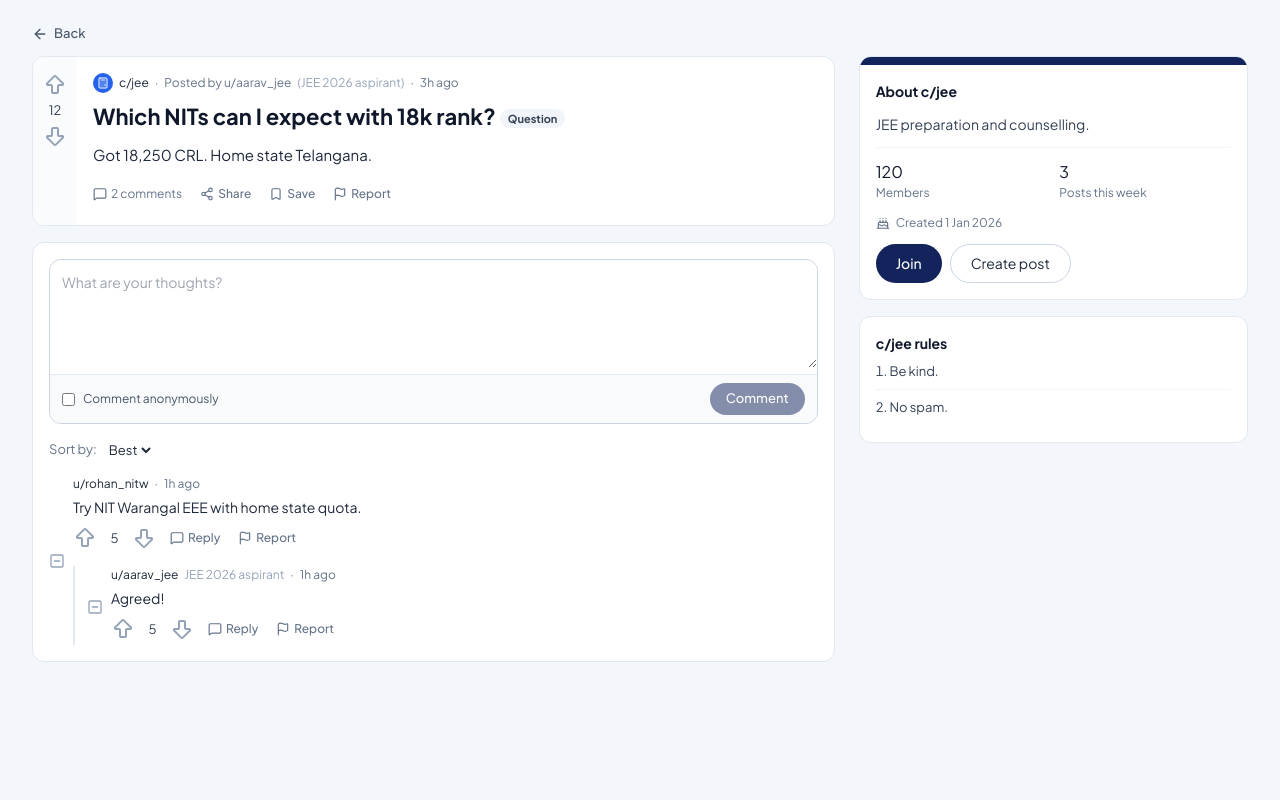
Scenario: Post page › shows the post and its comment thread, and posts a reply
Expected: the heading "Which NITs can I expect with 18k rank? Question" is shown, x1=93 y1=102 x2=565 y2=130
Expected: the text "Try NIT Warangal EEE with home state quota." is shown, x1=73 y1=498 x2=362 y2=516
Click the 1st button "Reply".
click(195, 538)  # box x1=162 y1=523 x2=228 y2=553
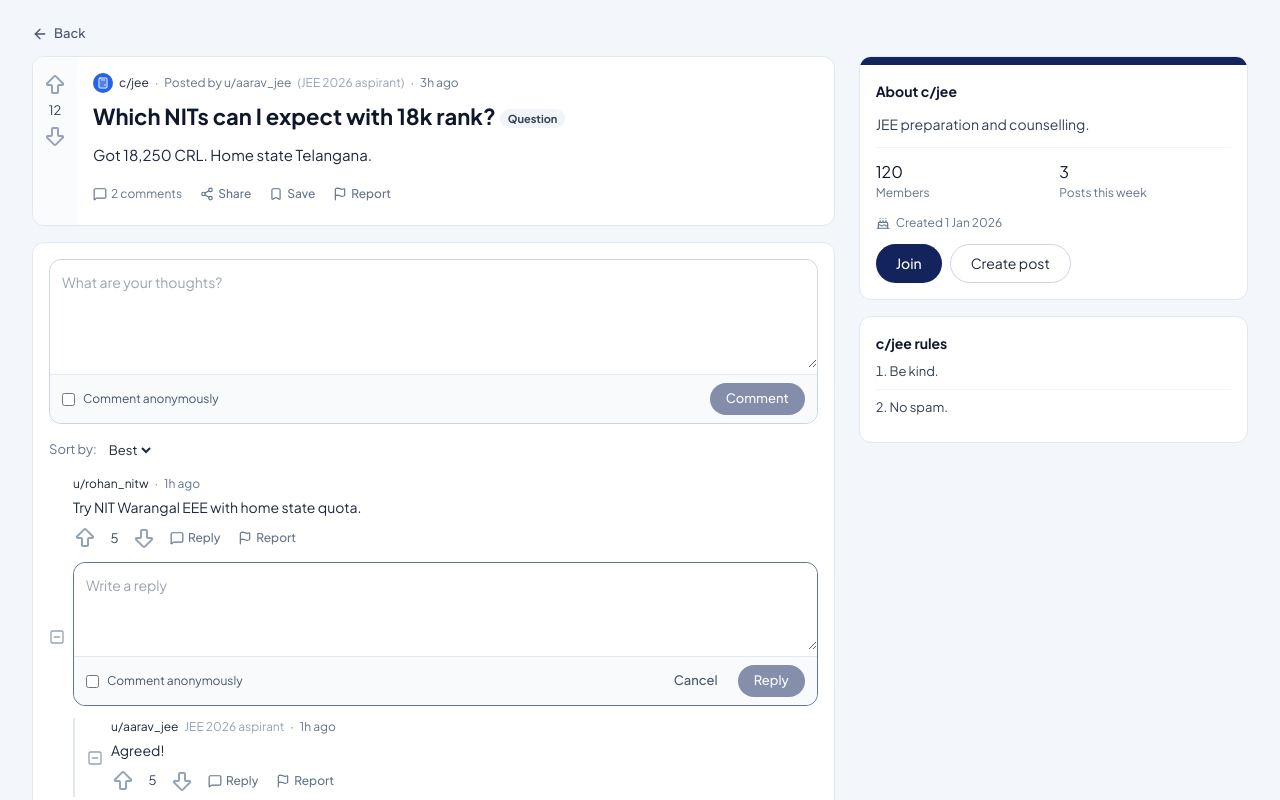
Type "Thanks a lot!" into the text box labelled "Write a reply".
click(445, 607); type("Thanks a lot!")  # box x1=74 y1=563 x2=817 y2=650
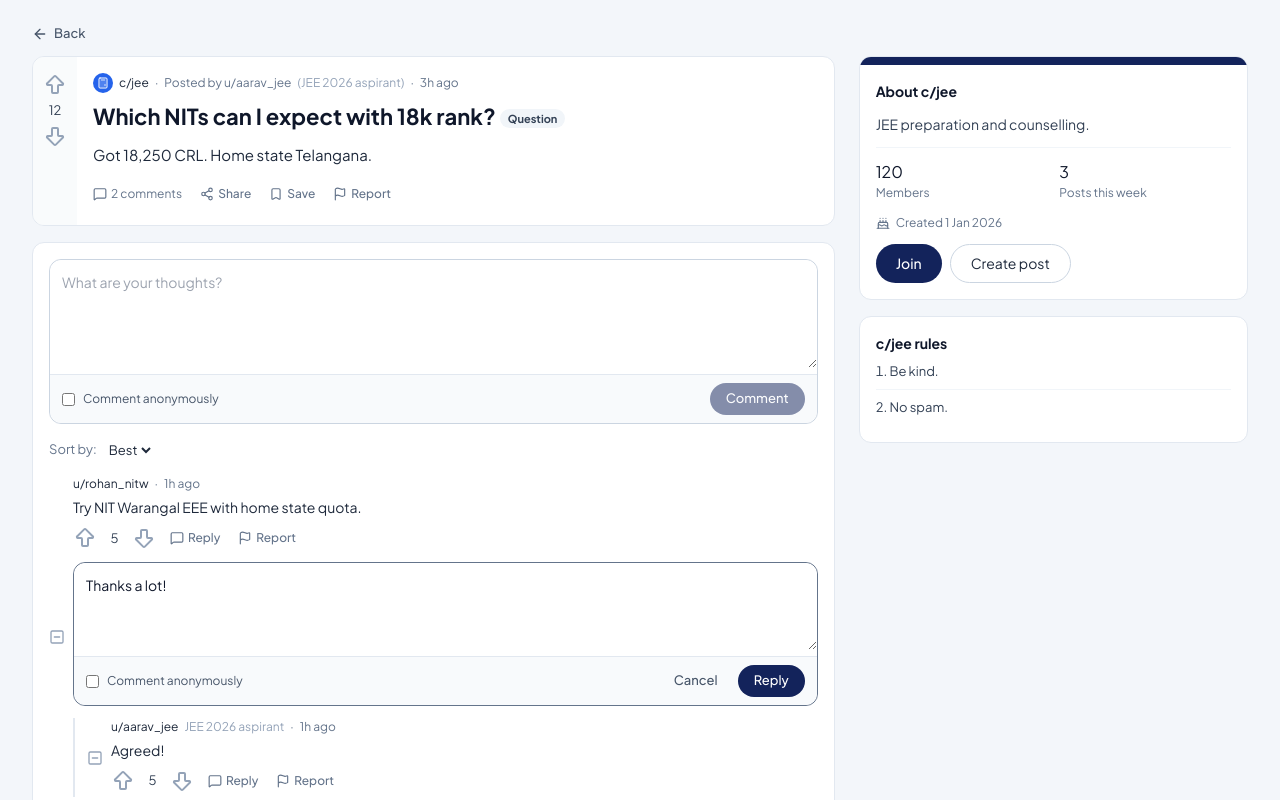
Click the 2nd button "Reply".
click(771, 681)  # box x1=738 y1=665 x2=805 y2=697
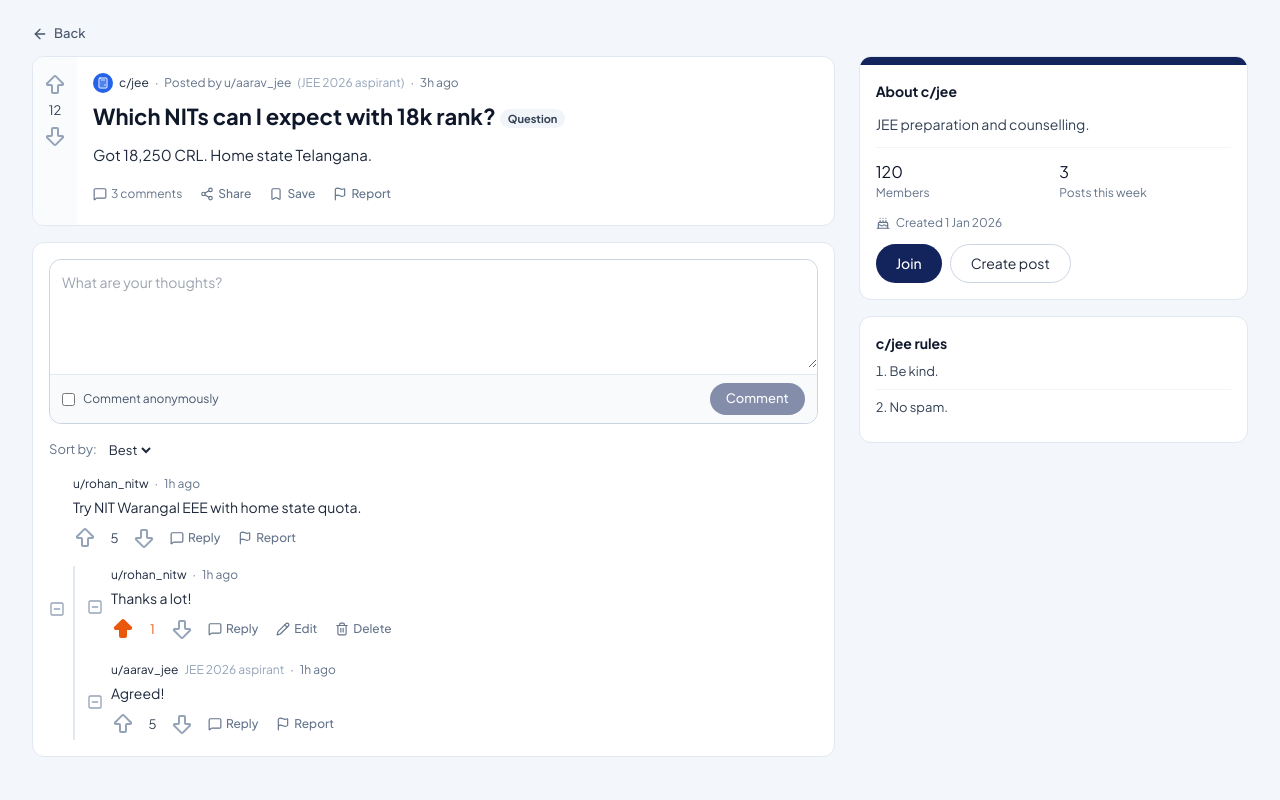
Expected: the text "Thanks a lot!" is shown, x1=111 y1=589 x2=191 y2=607
Click the 1st button named "Collapse comment".
click(57, 609)  # box x1=49 y1=477 x2=65 y2=740
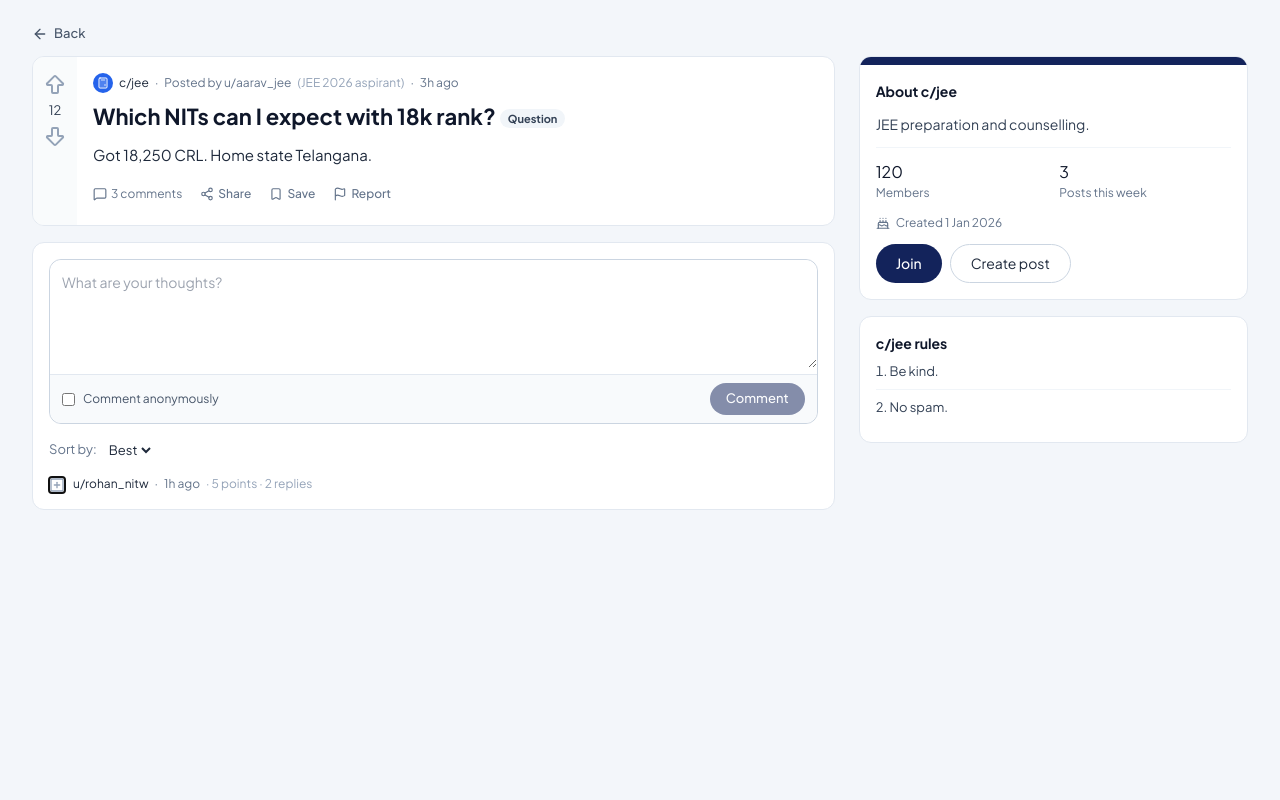
Expected: the text "Agreed!" is gone
